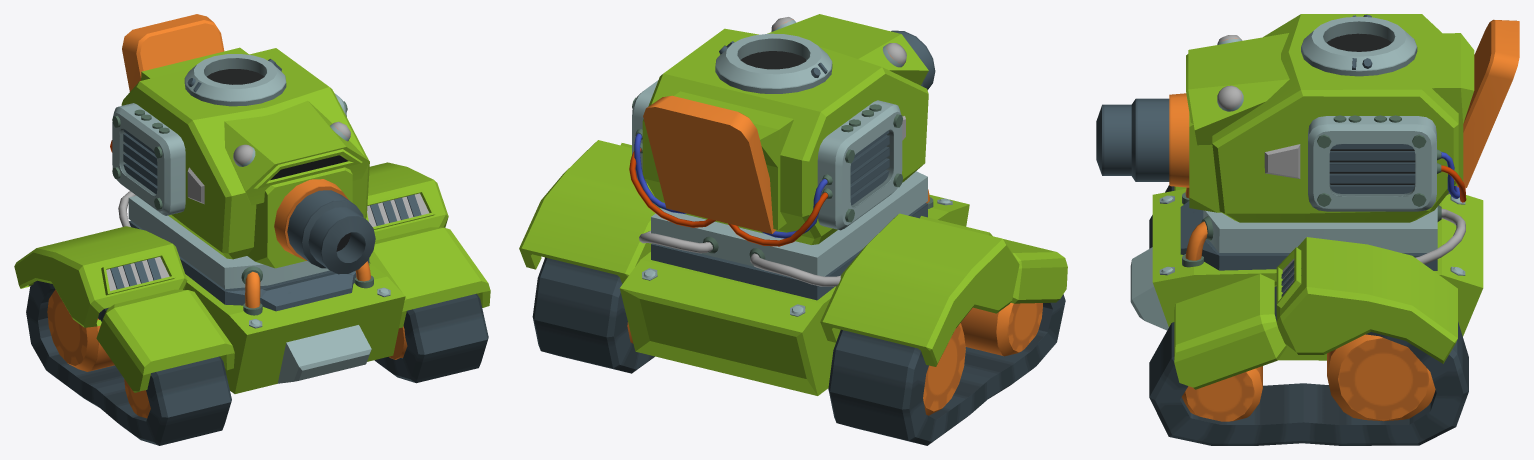
The model's file is TA_Assault_01.fbx.
The picture shows the model from 3 angles, left to right: view 1: azimuth 30°, elevation 25°; view 2: azimuth 150°, elevation 25°; view 3: azimuth 270°, elevation 25°; orthographic projection. The views are drawn at different scales.
Visible parts, largest first — view 1: TA_Assault_01_Wheel_Armor, TA_Assault_01_Turret_Armor, TA_Assault_01_Body, TA_Assault_01_Turret_Cannon, TA_Assault_01_Wheel_B_R, TA_Assault_01_Wheel_F_R; view 2: TA_Assault_01_Wheel_Armor, TA_Assault_01_Turret_Armor, TA_Assault_01_Body, TA_Assault_01_Wheel_F_R, TA_Assault_01_Wheel_B_R, TA_Assault_01_Turret_Cannon; view 3: TA_Assault_01_Turret_Armor, TA_Assault_01_Wheel_Armor, TA_Assault_01_Body, TA_Assault_01_Turret_Cannon, TA_Assault_01_Wheel_B_L, TA_Assault_01_Wheel_F_L.
Boxes of the visible parts, <box> form: TA_Assault_01_Wheel_Armor: <box>14,162,490,445</box>; TA_Assault_01_Turret_Armor: <box>110,14,369,268</box>; TA_Assault_01_Body: <box>118,191,405,393</box>; TA_Assault_01_Turret_Cannon: <box>274,179,375,274</box>; TA_Assault_01_Wheel_B_R: <box>47,289,114,371</box>; TA_Assault_01_Wheel_F_R: <box>124,379,150,418</box>; TA_Assault_01_Wheel_Armor: <box>519,140,1067,445</box>; TA_Assault_01_Turret_Armor: <box>629,14,928,246</box>; TA_Assault_01_Body: <box>619,171,969,395</box>; TA_Assault_01_Wheel_F_R: <box>961,303,1042,356</box>; TA_Assault_01_Wheel_B_R: <box>923,323,965,415</box>; TA_Assault_01_Turret_Cannon: <box>891,30,935,90</box>; TA_Assault_01_Turret_Armor: <box>1186,14,1519,222</box>; TA_Assault_01_Wheel_Armor: <box>1149,185,1468,445</box>; TA_Assault_01_Body: <box>1130,187,1483,360</box>; TA_Assault_01_Turret_Cannon: <box>1096,93,1189,187</box>; TA_Assault_01_Wheel_B_L: <box>1327,334,1435,421</box>; TA_Assault_01_Wheel_F_L: <box>1182,366,1262,421</box>.
Bounding box in the file's own units: 280 × 211 × 252.
